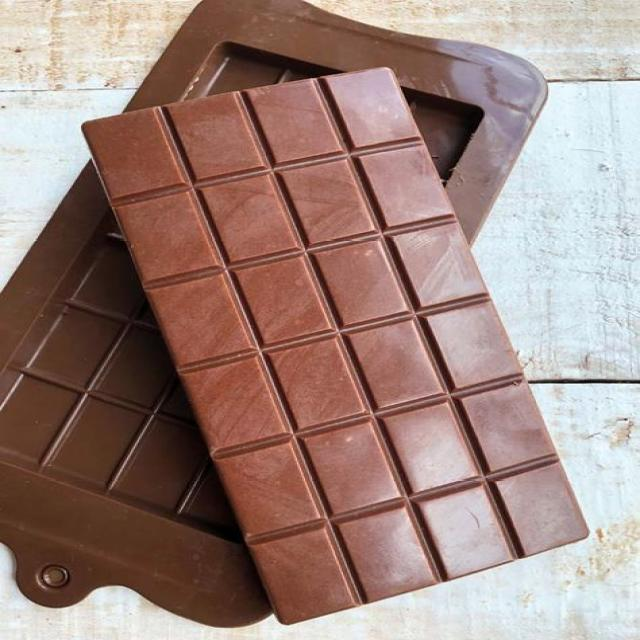Chocolate: (77, 62, 594, 628)
